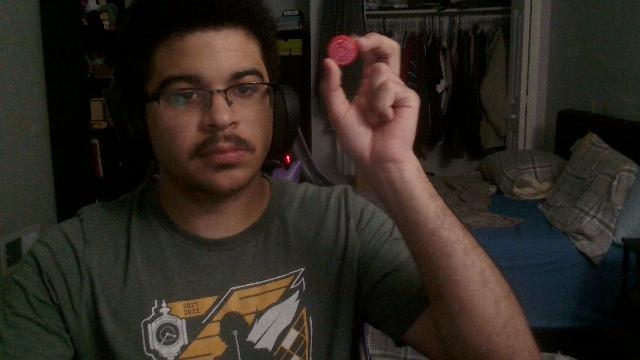cap: (328, 34, 358, 66)
